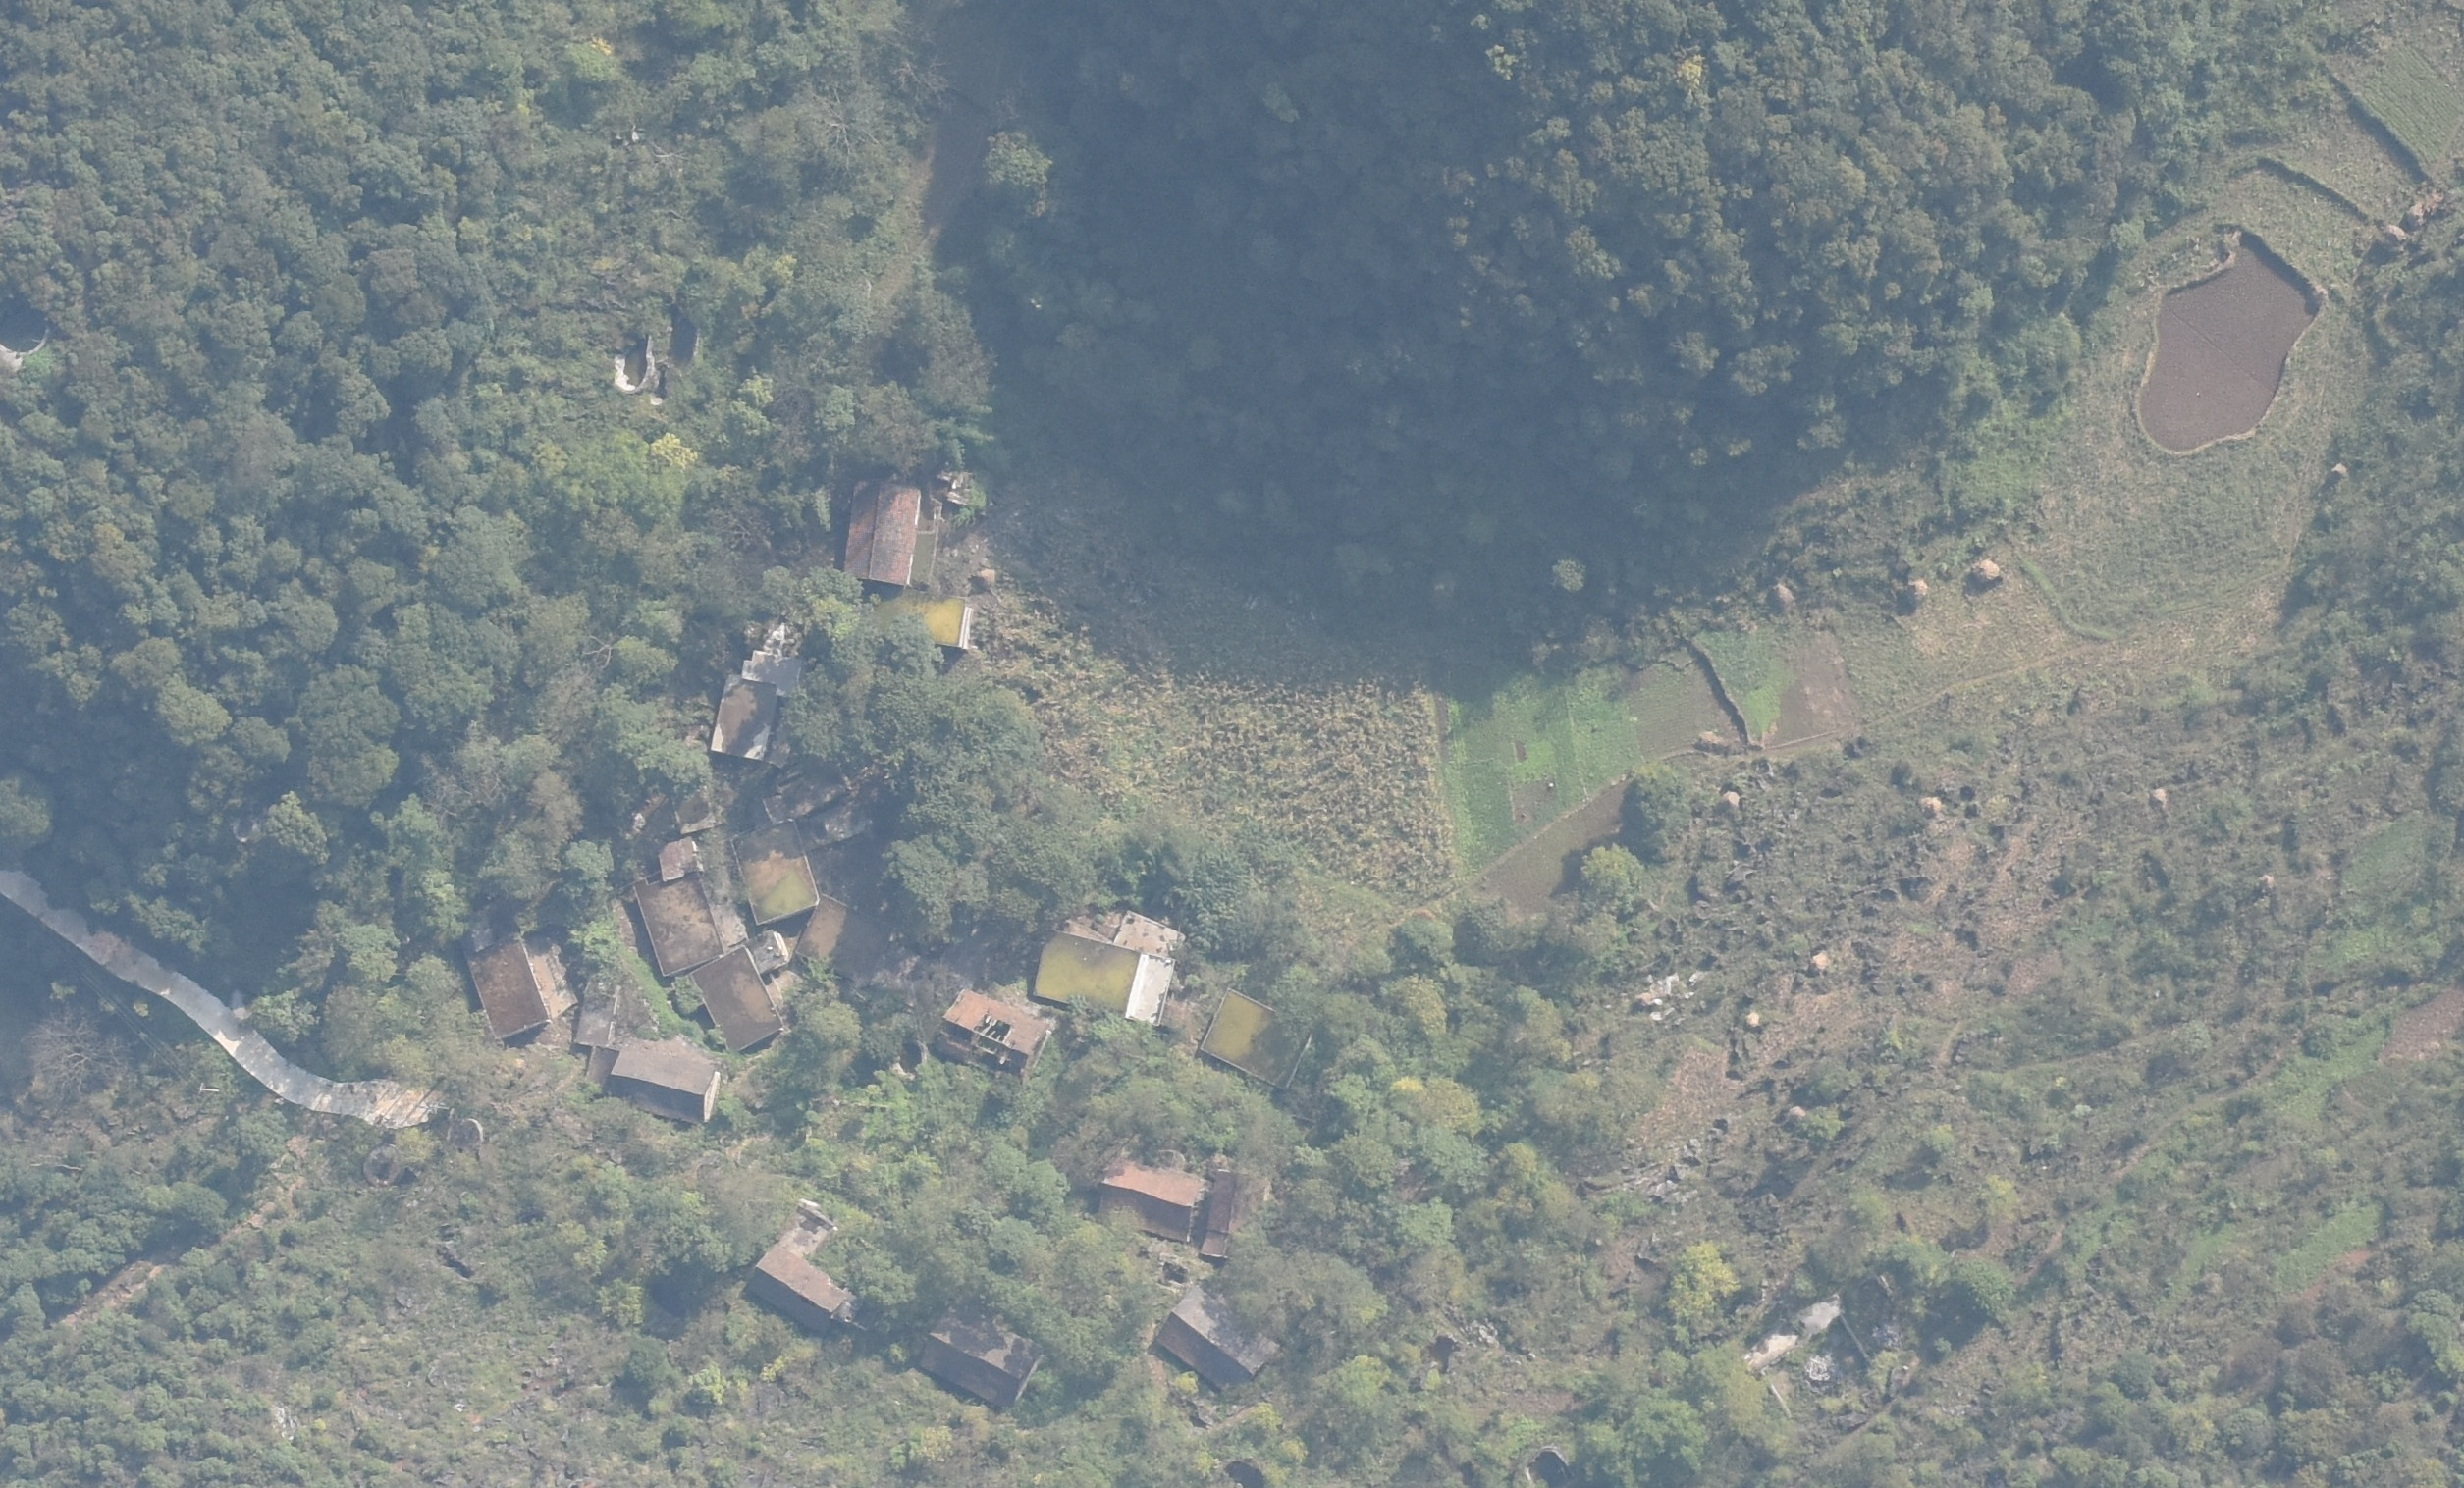building: (1038, 901, 1188, 1031), (743, 1203, 876, 1337), (906, 1287, 1049, 1407), (1100, 1147, 1244, 1258), (625, 841, 737, 974), (928, 987, 1067, 1087), (1197, 981, 1315, 1092), (1153, 1291, 1280, 1388), (709, 633, 794, 765), (729, 820, 829, 929), (605, 1036, 723, 1126), (461, 927, 549, 1045), (683, 955, 788, 1050), (841, 475, 924, 589), (855, 582, 972, 651)
pool: (2130, 234, 2321, 466)
